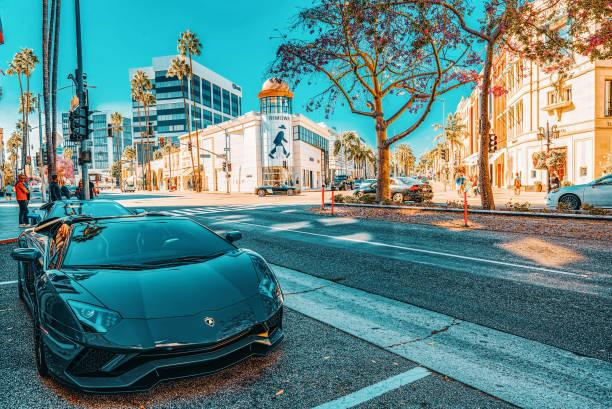porsche: (197, 313, 221, 332)
